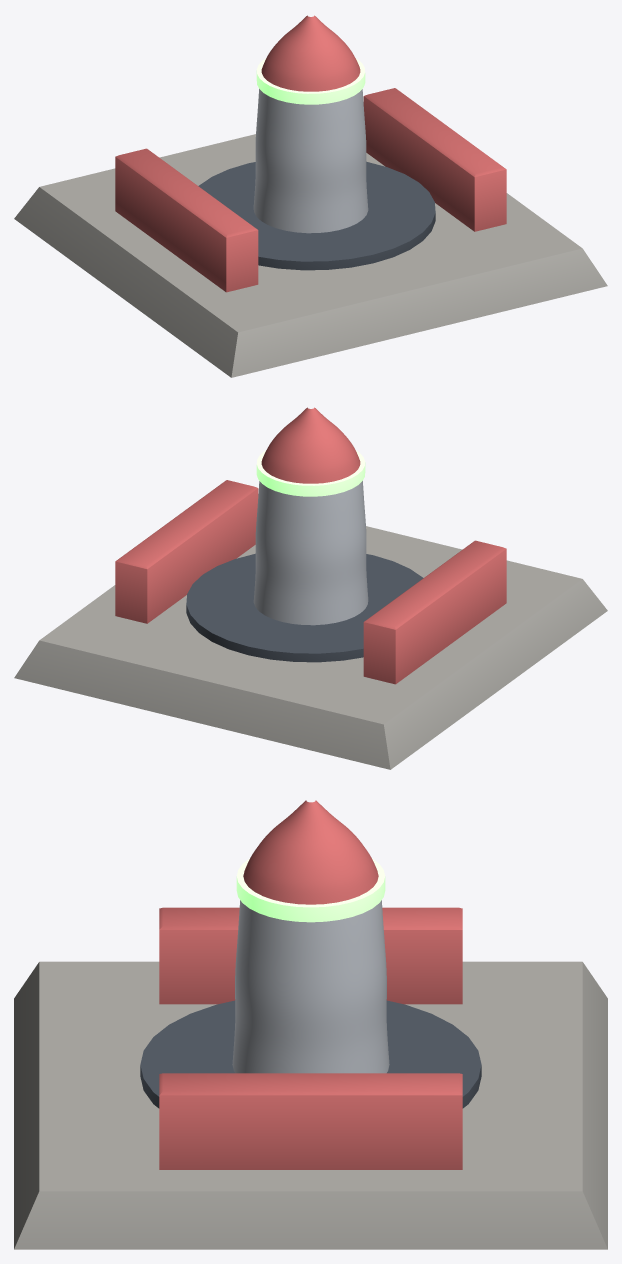
Rendered from namisl.glb.
The picture shows the model from 3 angles, top to bottom: view 1: azimuth 30°, elevation 25°; view 2: azimuth 150°, elevation 25°; view 3: azimuth 270°, elevation 25°; orthographic projection. The views are drawn at different scales.
Visible parts, largest first — view 1: Hull; view 2: Hull; view 3: Hull.
Boxes of the visible parts, x1=… form: Hull: x1=14, y1=15, x2=607, y2=377; Hull: x1=14, y1=407, x2=607, y2=769; Hull: x1=14, y1=800, x2=607, y2=1249.
Size of the model in its own units: 5.08 by 3.05 by 5.08.
